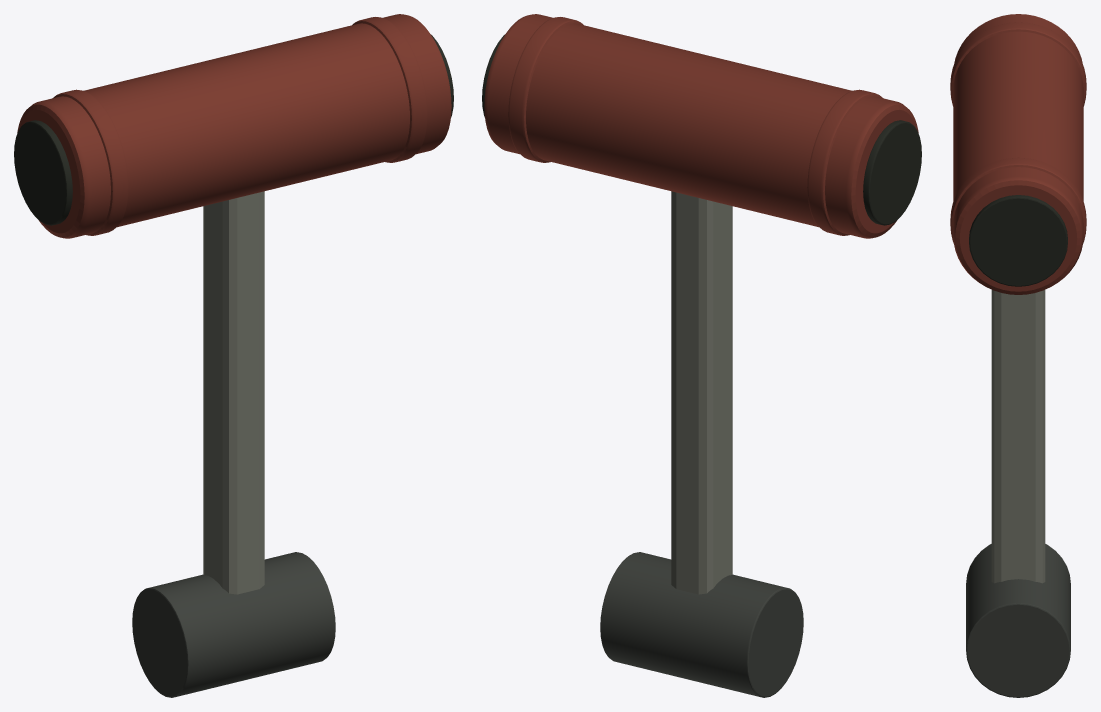
The model's file is MAIN_Handle.fbx.
The picture shows the model from 3 angles, left to right: view 1: azimuth 30°, elevation 25°; view 2: azimuth 150°, elevation 25°; view 3: azimuth 270°, elevation 25°; orthographic projection. The views are drawn at different scales.
Parts seen in each view (by area): view 1: MAIN_Handle_EXPORT; view 2: MAIN_Handle_EXPORT; view 3: MAIN_Handle_EXPORT.
Part boxes in pixels (left/top/right/bottom): MAIN_Handle_EXPORT: left=14, top=14, right=453, bottom=697; MAIN_Handle_EXPORT: left=482, top=14, right=921, bottom=697; MAIN_Handle_EXPORT: left=950, top=14, right=1086, bottom=697.
Bounding box in the file's own units: 0.293 × 0.445 × 0.096.
